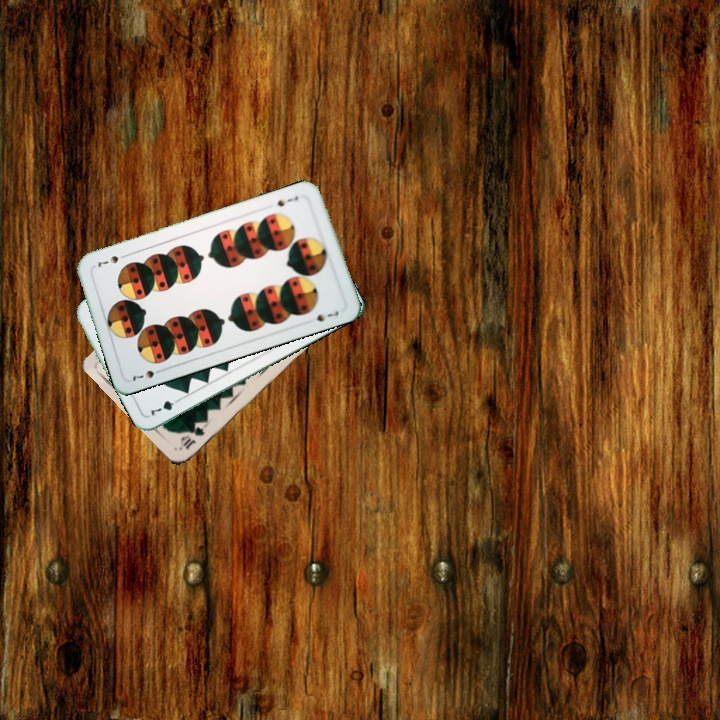G10: (176, 422, 207, 451)
G7: (146, 394, 184, 419)
S7: (128, 365, 167, 384), (272, 191, 301, 209)
